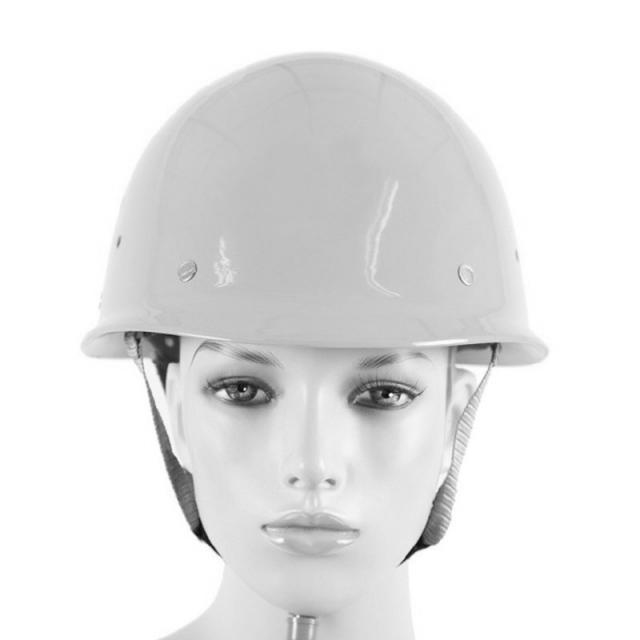safety_helmet: (86, 53, 547, 367)
